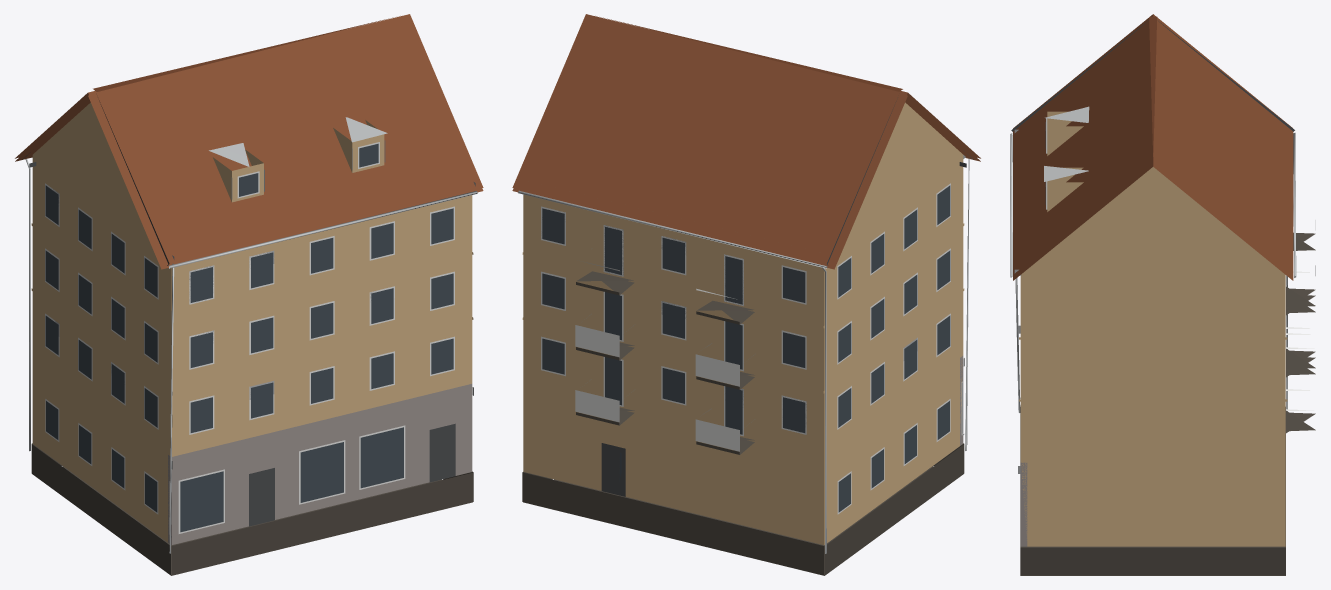
Rendered from block-row-4-end-w-lod1.glb.
3 views of the same model, side by side, from view 1: azimuth 30°, elevation 25°; view 2: azimuth 150°, elevation 25°; view 3: azimuth 270°, elevation 25° (orthographic). The views are drawn at different scales.
Parts seen in each view (by area): view 1: block-row-4-end-w-plaster0; view 2: block-row-4-end-w-plaster0; view 3: block-row-4-end-w-plaster0.
Boxes of the visible parts, x1,y1,x2,y2 form: block-row-4-end-w-plaster0: (15, 14, 483, 575); block-row-4-end-w-plaster0: (512, 14, 980, 575); block-row-4-end-w-plaster0: (1010, 14, 1315, 575).
Size of the model in its own units: 16.05 by 20.78 by 13.89.
